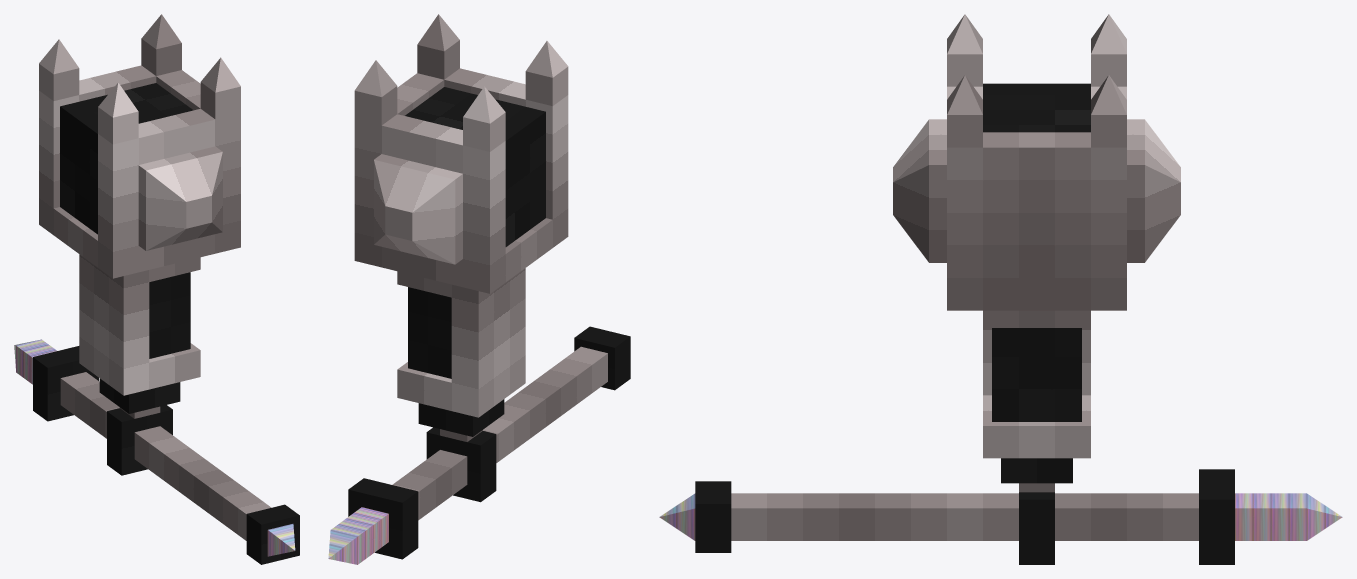
The model's file is arm_caster_l.obj.
3 views of the same model, side by side, from view 1: azimuth 30°, elevation 25°; view 2: azimuth 150°, elevation 25°; view 3: azimuth 270°, elevation 25° (orthographic). The views are drawn at different scales.
Parts seen in each view (by area): view 1: ARM_LEFT_CASTER_Cube.000, ARM_LEFT_DECO_IRON_Cube.151; view 2: ARM_LEFT_CASTER_Cube.000, ARM_LEFT_DECO_IRON_Cube.151; view 3: ARM_LEFT_CASTER_Cube.000, ARM_LEFT_DECO_IRON_Cube.151.
Part boxes in pixels (<box>): ARM_LEFT_CASTER_Cube.000: <box>14,65,299,564</box>; ARM_LEFT_DECO_IRON_Cube.151: <box>39,14,240,250</box>; ARM_LEFT_CASTER_Cube.000: <box>328,68,630,564</box>; ARM_LEFT_DECO_IRON_Cube.151: <box>354,14,568,264</box>; ARM_LEFT_CASTER_Cube.000: <box>659,83,1342,564</box>; ARM_LEFT_DECO_IRON_Cube.151: <box>893,14,1180,262</box>.
Bounding box in the file's own units: 0.3125 × 0.9688 × 1.19.
